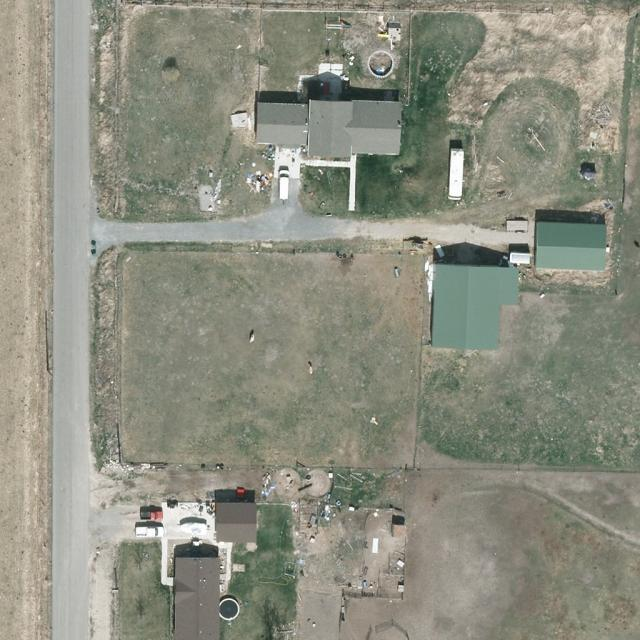vehicle: (277, 170, 290, 200), (136, 526, 166, 538), (140, 510, 166, 520)
